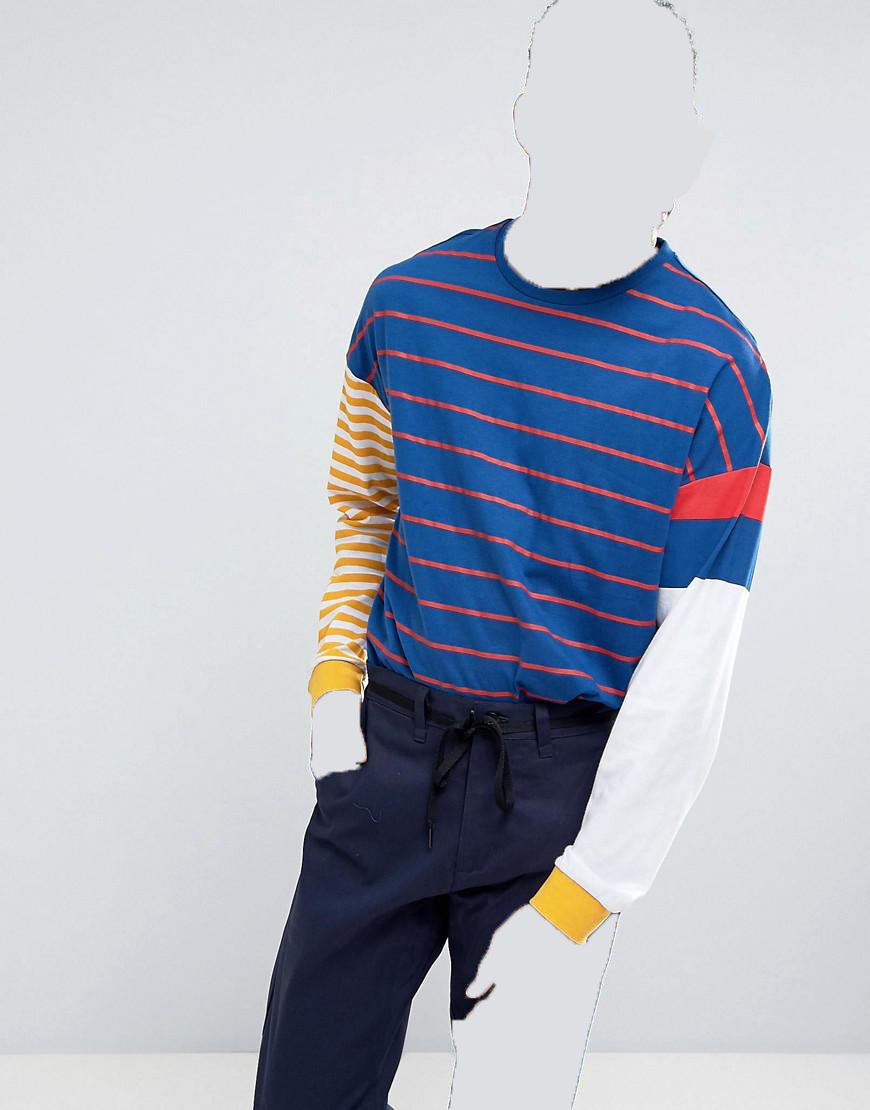teeshirt: (313, 208, 781, 749)
